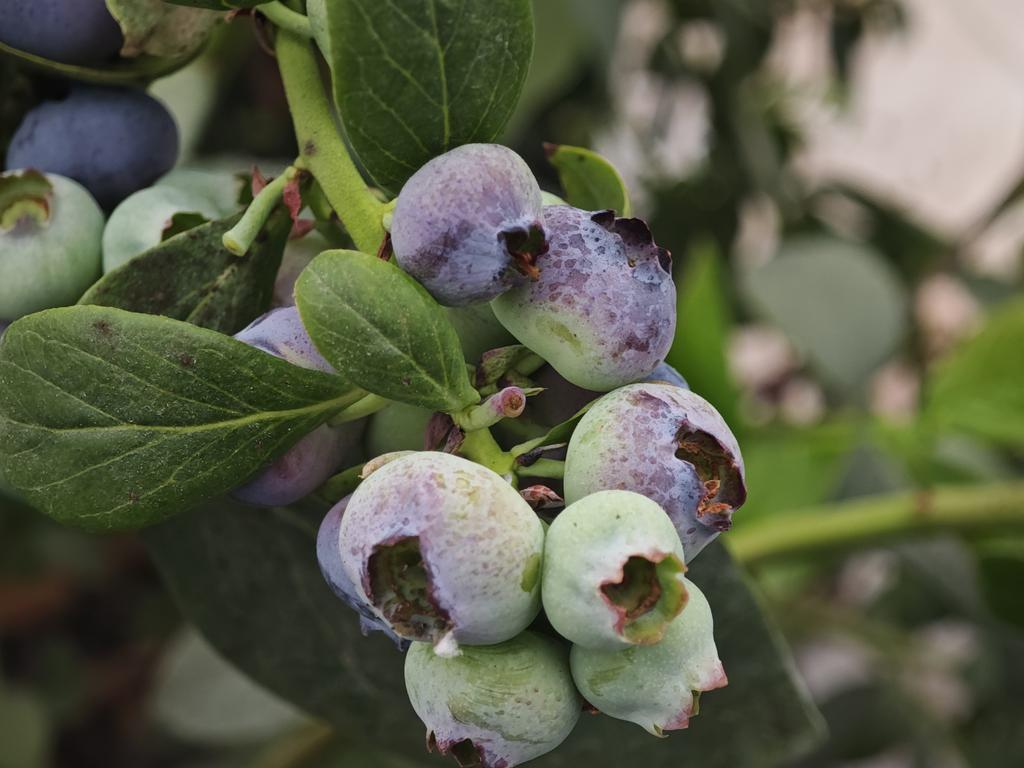Semi-RipeBlueBerry: (502, 200, 684, 387), (388, 138, 550, 311)
UnripeBlueBerry: (335, 448, 544, 652), (540, 485, 692, 652)
